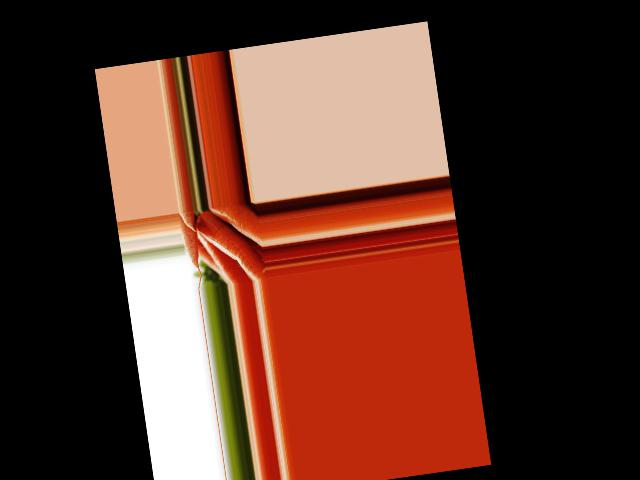carrot: (191, 223, 241, 280)
